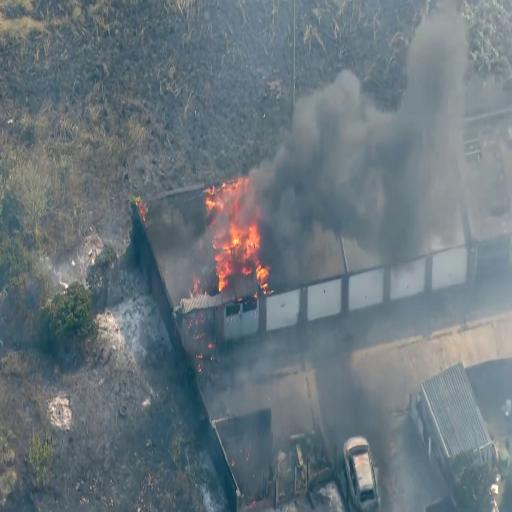fire: (208, 186, 270, 294)
smoke: (366, 5, 468, 238), (278, 81, 374, 240)
